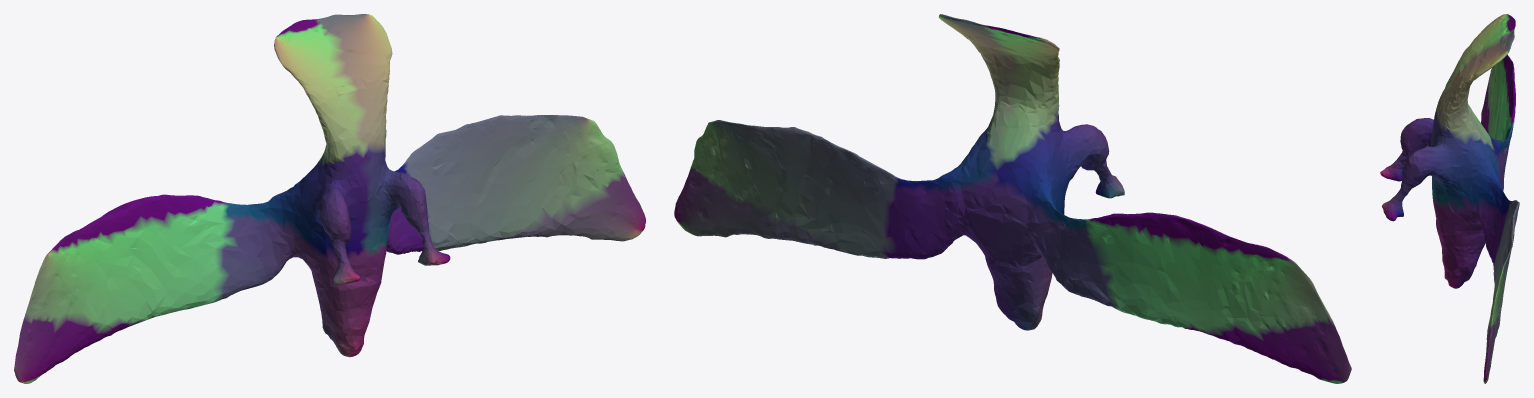
File: bird2-17.off.obj
The picture shows the model from 3 angles, left to right: view 1: azimuth 30°, elevation 25°; view 2: azimuth 150°, elevation 25°; view 3: azimuth 270°, elevation 25°; orthographic projection. The views are drawn at different scales.
Size of the model in its own units: 1.65 by 0.7774 by 0.3769.
